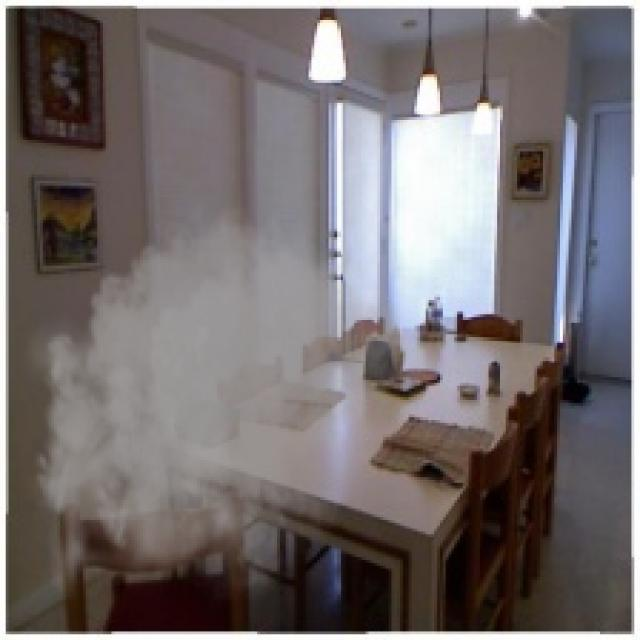Smoke: (17, 194, 414, 612)
